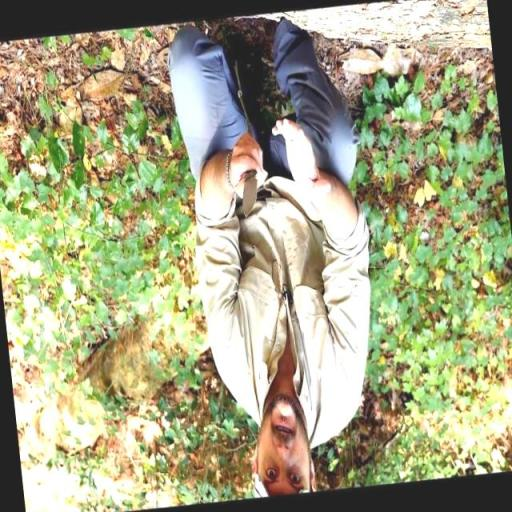knife: (238, 170, 261, 218)
